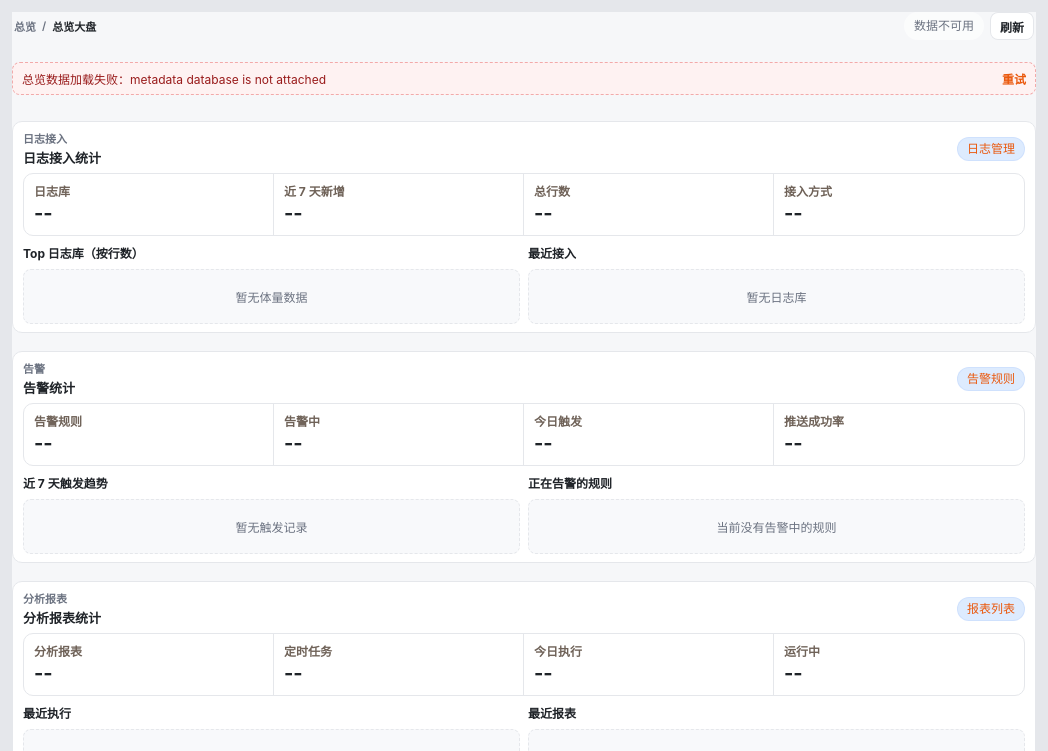
Test case: OverviewPage › shows an error notice without fabricated numbers and retries on demand
expect the message shows "metadata database is not attached": met, box top-left (130, 72), bottom-right (326, 87)
expect the text "数据不可用" is shown: met, box top-left (904, 12), bottom-right (984, 40)
Click the button "重试".
click(1014, 78)  # box top-left (1002, 70), bottom-right (1026, 87)
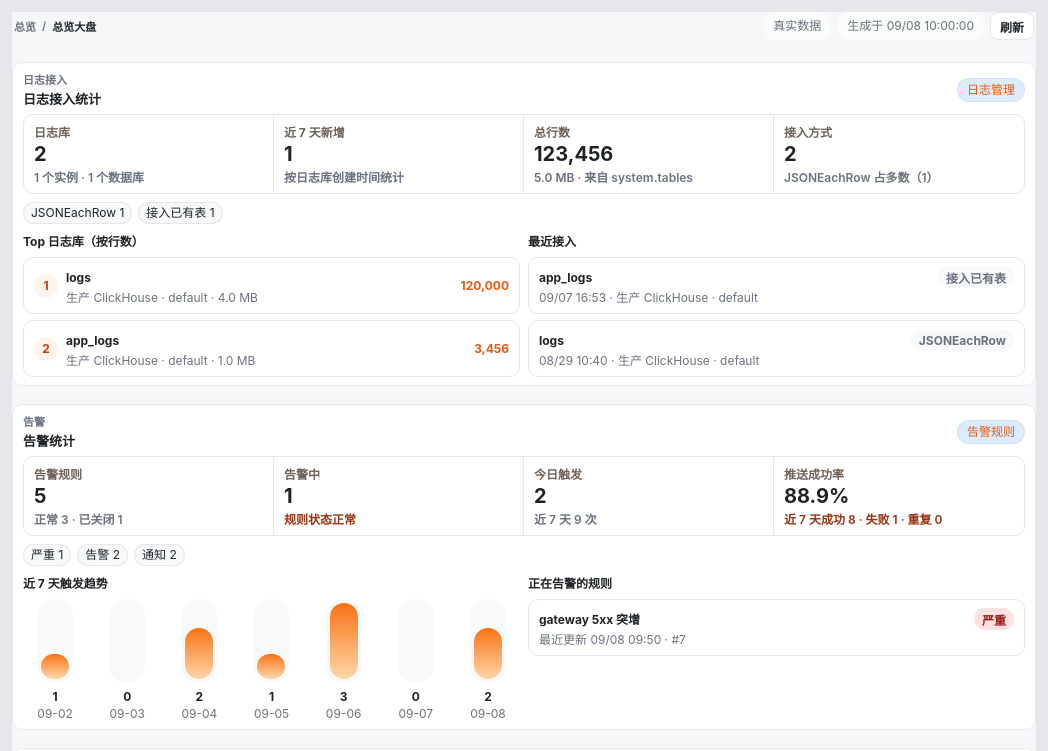
expect the text "真实数据" is shown: met, box top-left (763, 12), bottom-right (831, 40)
expect the message "总览数据加载失败：metadata database is not attached 重试" is gone: met
